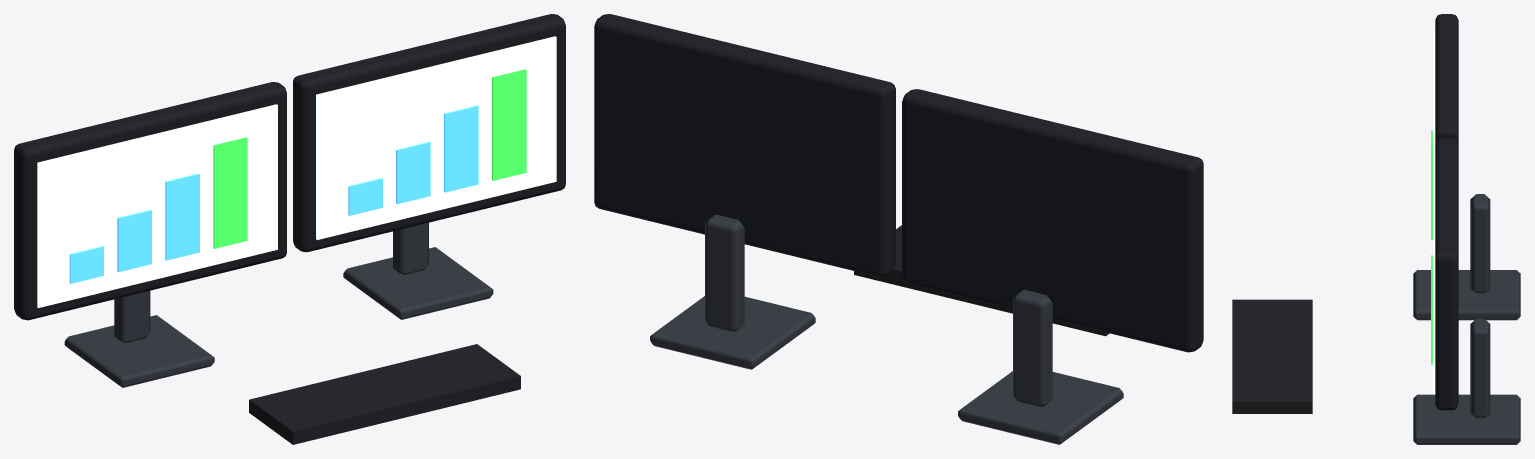
The model's file is station_intake_ausstattung_1_1.glb.
3 views of the same model, side by side, from view 1: azimuth 30°, elevation 25°; view 2: azimuth 150°, elevation 25°; view 3: azimuth 270°, elevation 25° (orthographic). The views are drawn at different scales.
Visible parts, largest first — view 1: station_intake_ausstattung_1_1; view 2: station_intake_ausstattung_1_1; view 3: station_intake_ausstattung_1_1.
Boxes of the visible parts, x1,y1,x2,y2 form: station_intake_ausstattung_1_1: [14, 14, 565, 444]; station_intake_ausstattung_1_1: [594, 14, 1203, 444]; station_intake_ausstattung_1_1: [1232, 14, 1520, 444].
Bounding box in the file's own units: 0.86 × 0.378 × 0.43.
